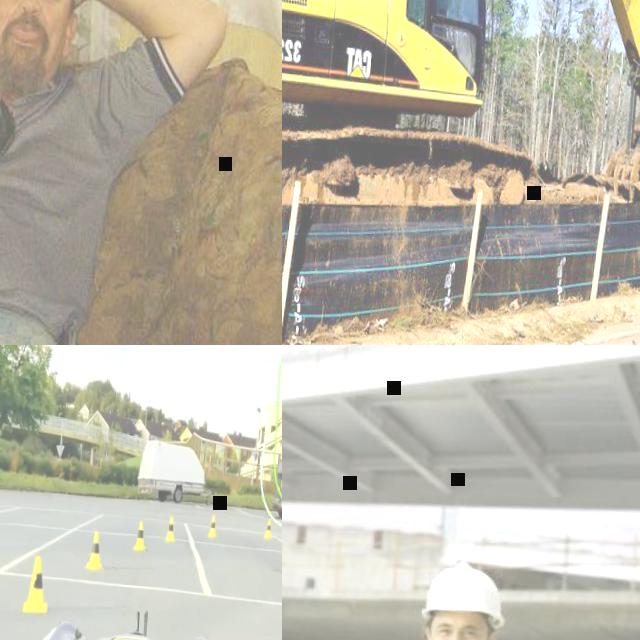helmet: (421, 558, 508, 630)
machinery: (282, 0, 640, 219)
no_mask: (0, 5, 74, 91)
no_vest: (0, 47, 119, 321)
person: (0, 0, 240, 345), (373, 558, 580, 640)
safety_cone: (24, 554, 50, 616), (85, 528, 104, 572), (134, 520, 148, 554), (165, 514, 178, 546), (206, 512, 219, 541), (264, 516, 274, 540)
